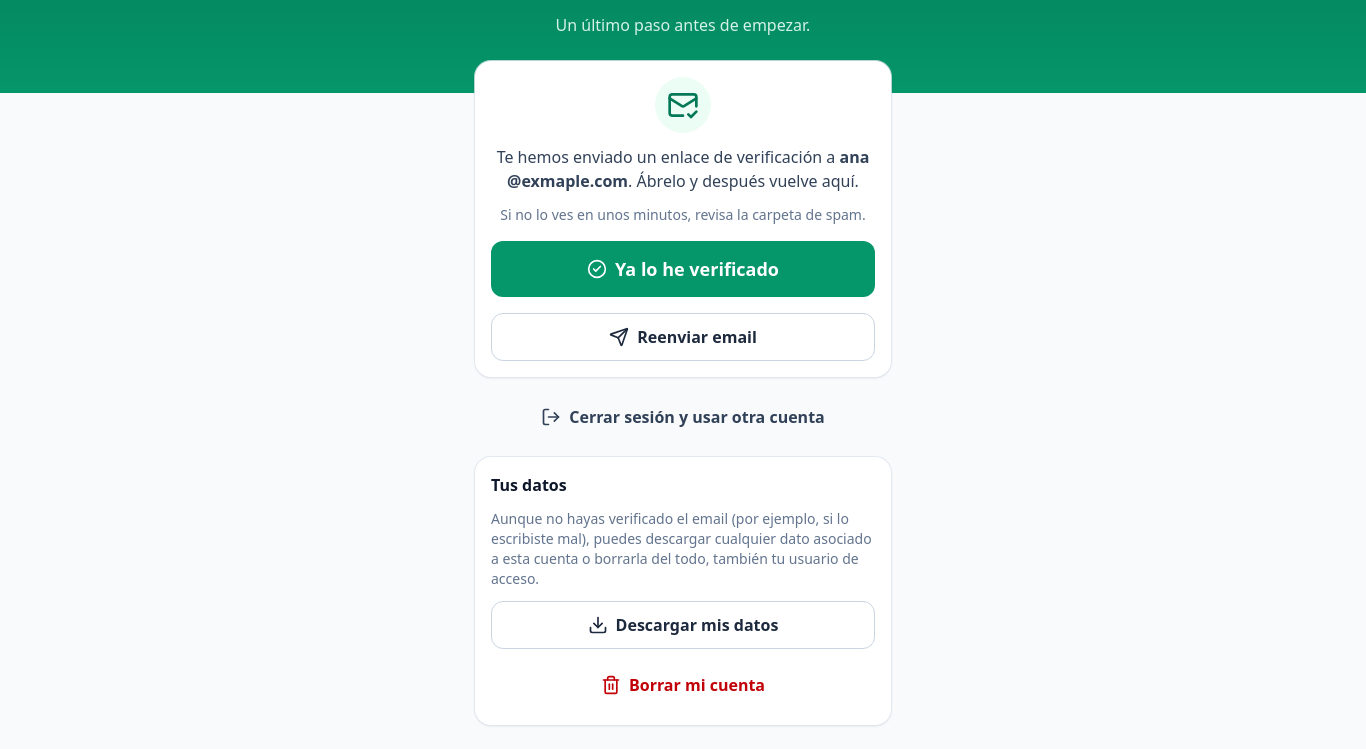
Test: <VerifyEmailScreen> › lets an unverified user export or delete the account (GDPR: only a valid token is needed)
(page scrolled)
Expected: the heading "Tus datos" is shown, [491, 474, 567, 496]
Expected: the button "Descargar mis datos" is shown, [491, 601, 875, 649]
Click the button "Borrar mi cuenta": (683, 685) [491, 661, 875, 709]
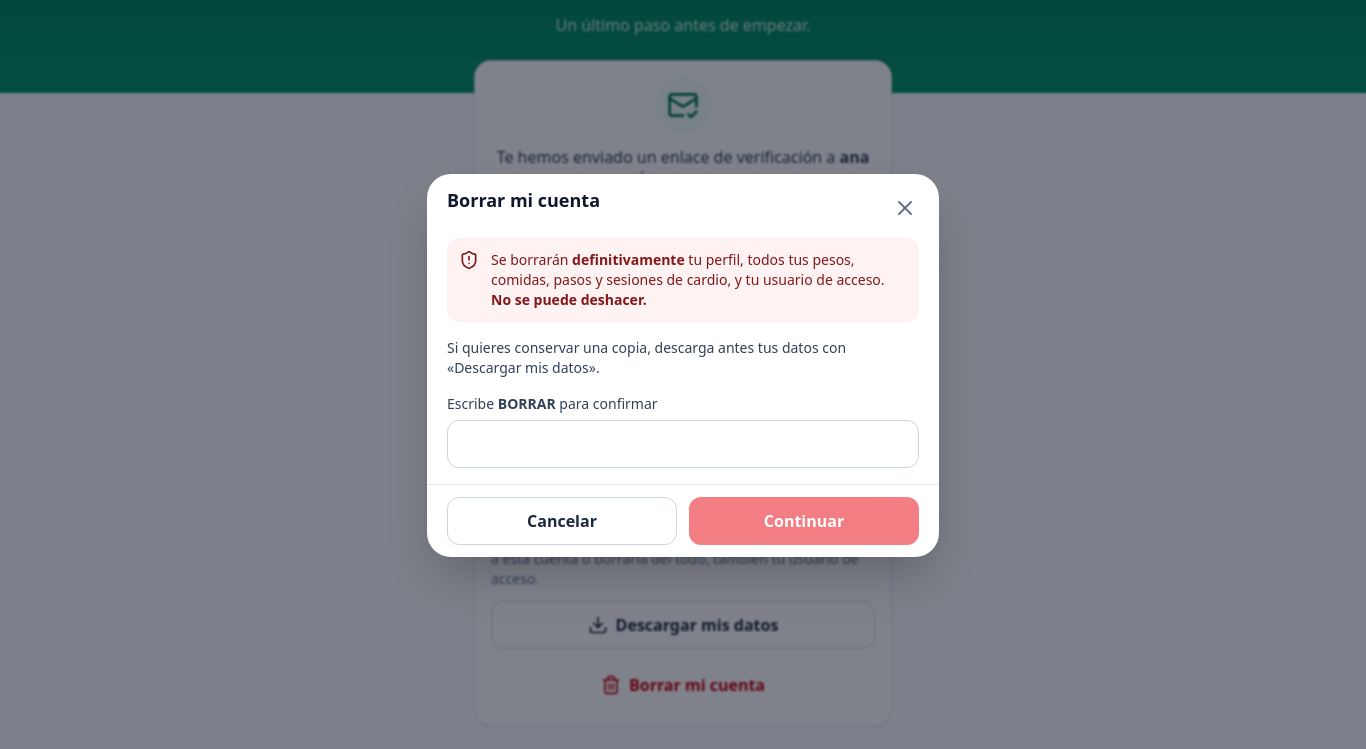
Now the dialog "Borrar mi cuenta" is shown, box [427, 174, 939, 556]
